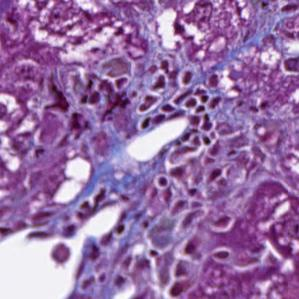inflammation: (137, 62, 225, 144), (78, 69, 132, 114)
